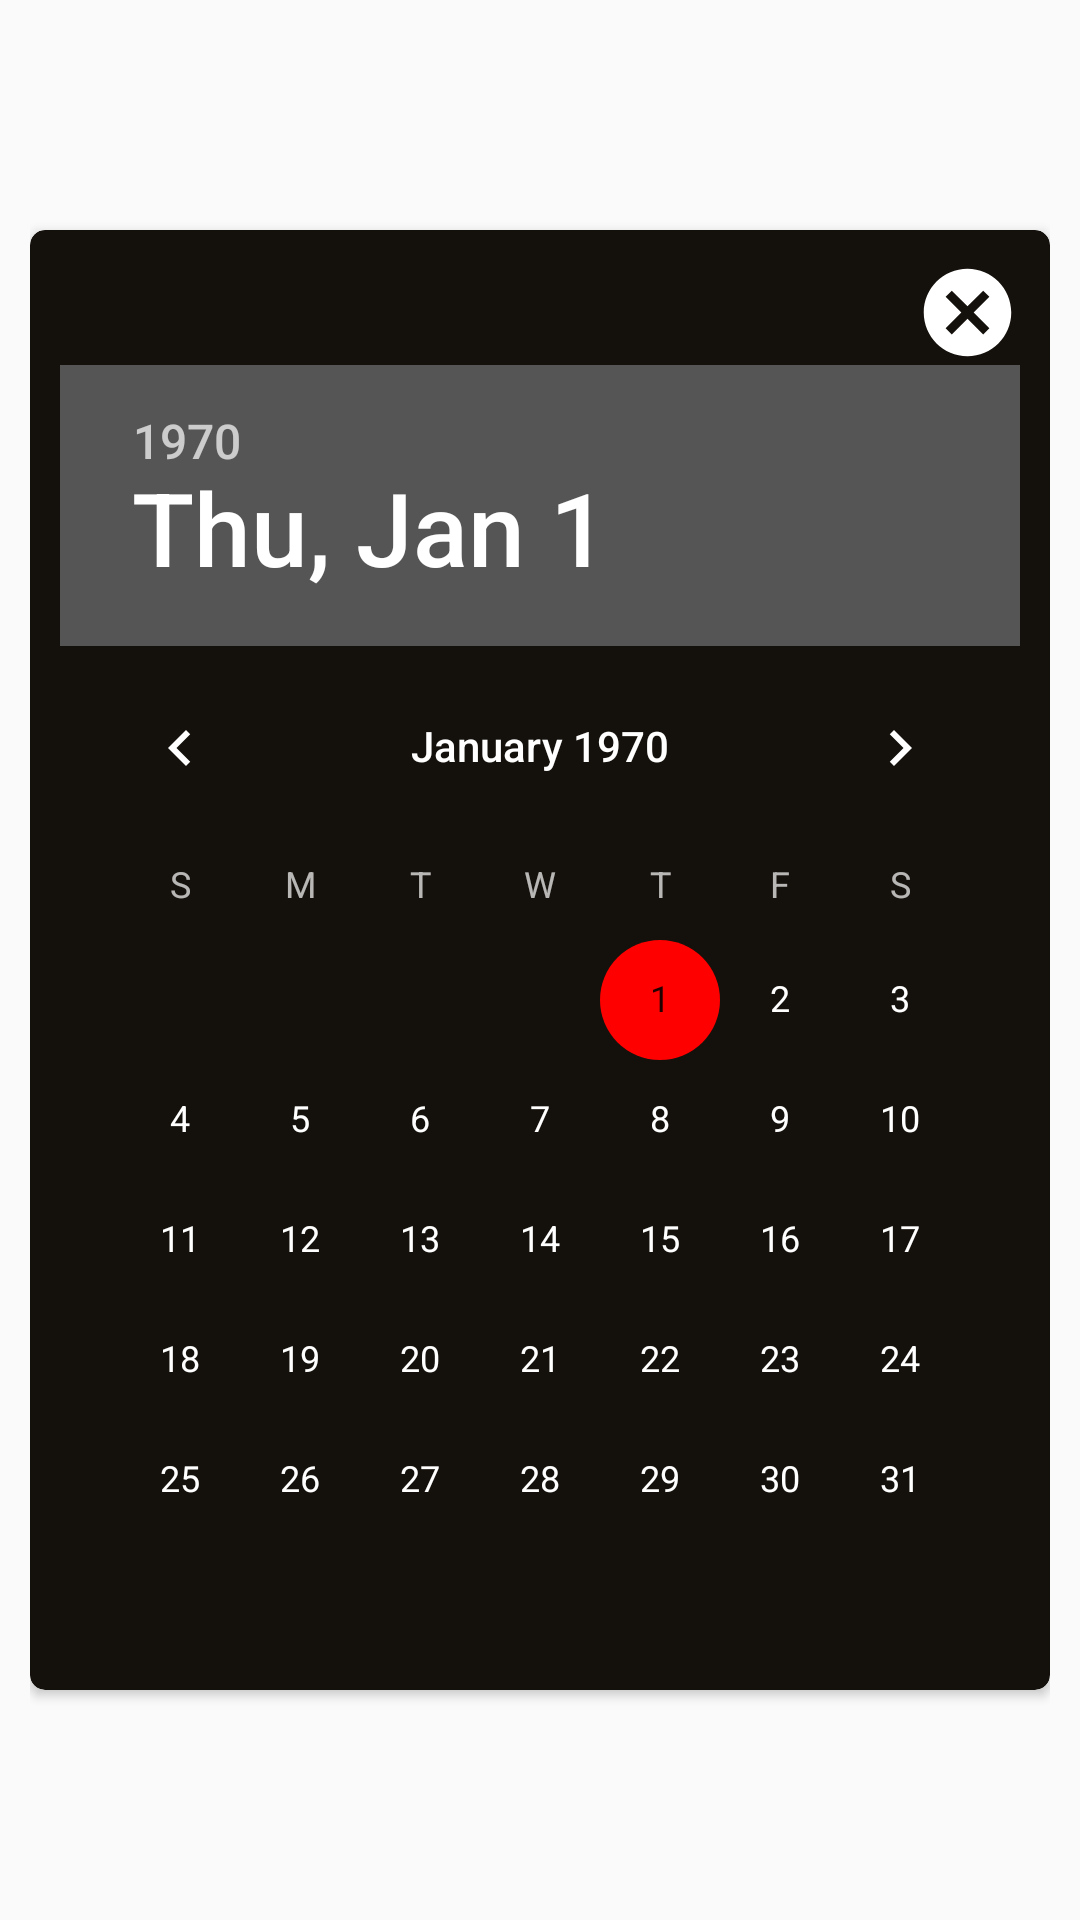

Screen size 1080 × 1920. Icon name, then its box in pixels as (x1, y1, x2, y2):
cancel: (923, 268, 1012, 357)
